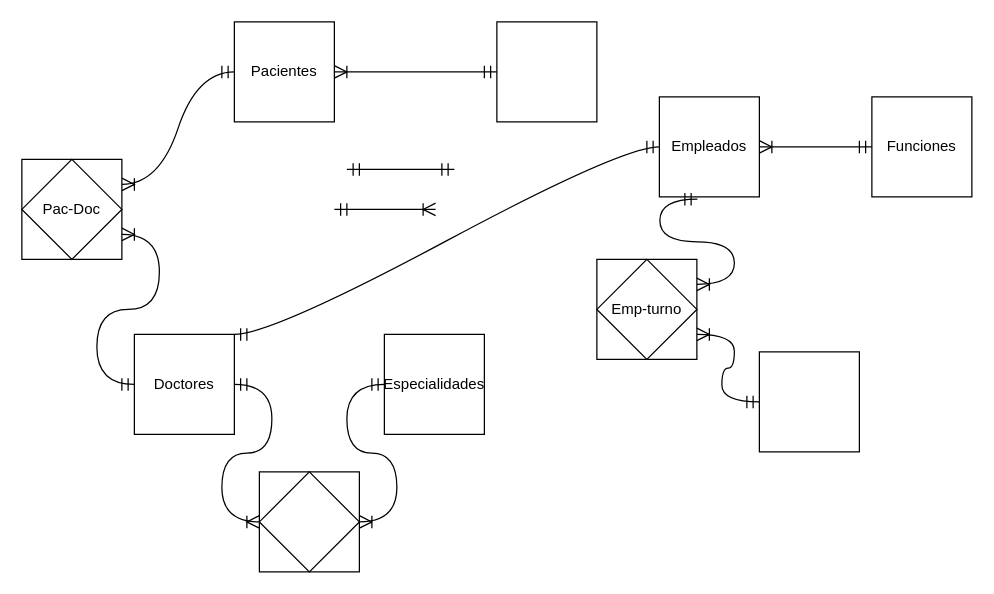
Some shapes in this 994 by 594 pixel diagram are drawn without their labels. Here are the shapes that lost their labels. From the top down, the box of each, then its label:
(496, 21, 597, 122): Salas
(758, 351, 859, 452): Turnos
(258, 471, 359, 572): Doc-Esp
